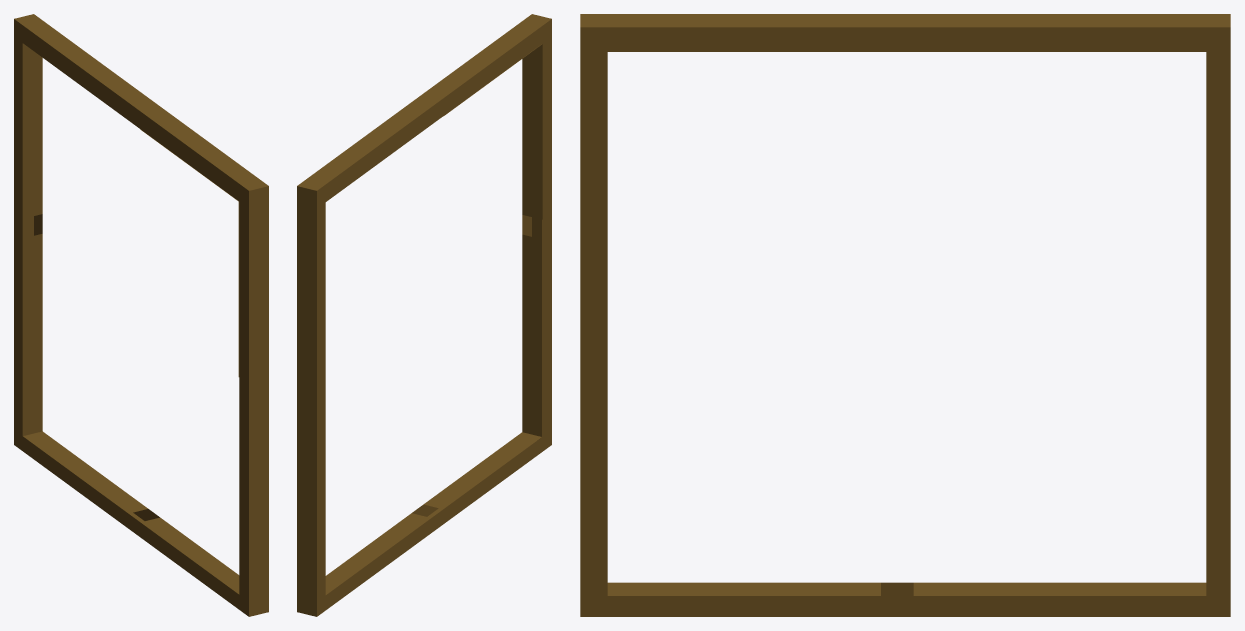
Rendered from PictureFrame.fbx.
The picture shows the model from 3 angles, left to right: view 1: azimuth 30°, elevation 25°; view 2: azimuth 150°, elevation 25°; view 3: azimuth 270°, elevation 25°; orthographic projection. The views are drawn at different scales.
Visible parts, largest first — view 1: Window_Frame; view 2: Window_Frame; view 3: Window_Frame.
Part boxes in pixels (x1,y1,x2,y2): Window_Frame: (14, 14, 268, 616); Window_Frame: (297, 14, 551, 616); Window_Frame: (580, 14, 1230, 616).
Size of the model in its own units: 0.25 by 5 by 5.
